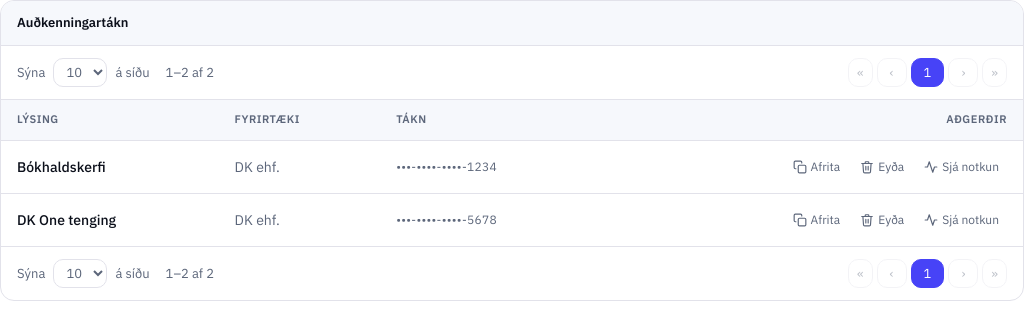
Test: AuthTokensPanel — delete flow › shows delete confirmation when Eyða is clicked
Click the button "Eyða" in the row of "Bókhaldskerfi" at (882, 167), box x1=852 y1=153 x2=912 y2=181
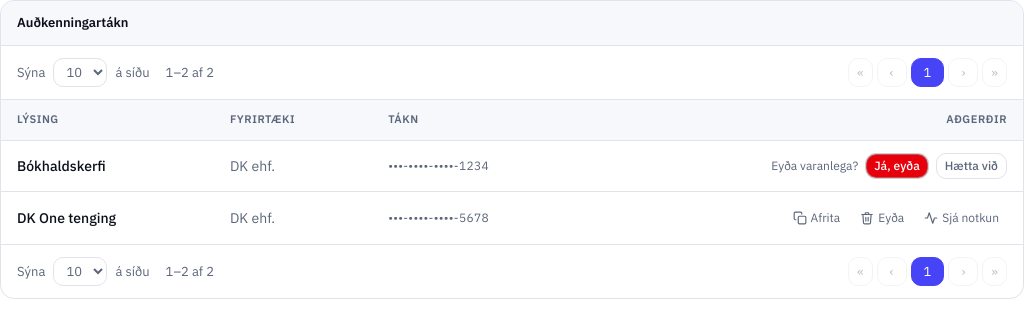
Result: the text "Eyða varanlega?" is shown at x1=771 y1=158 x2=858 y2=174
